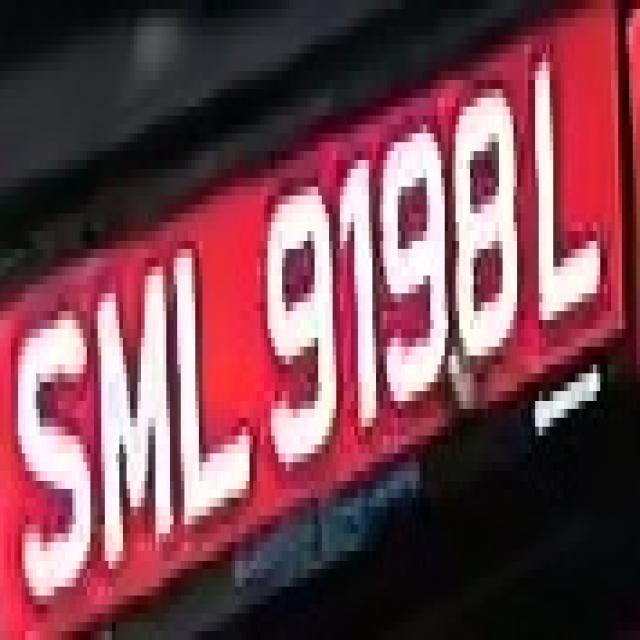1: (333, 116, 383, 444)
8: (444, 54, 520, 382)
9: (260, 169, 340, 471), (372, 133, 448, 427)
L: (159, 222, 253, 542), (528, 45, 611, 311)
M: (80, 222, 180, 560)
S: (11, 258, 101, 631)
